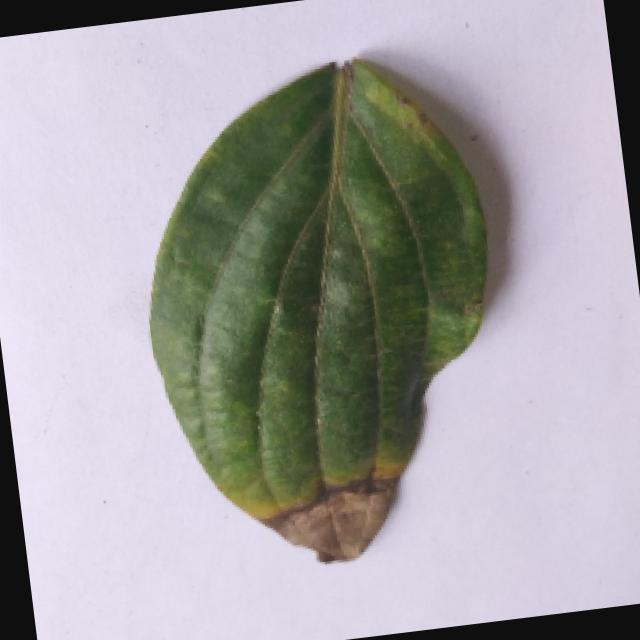footrot: (95, 38, 558, 584)
